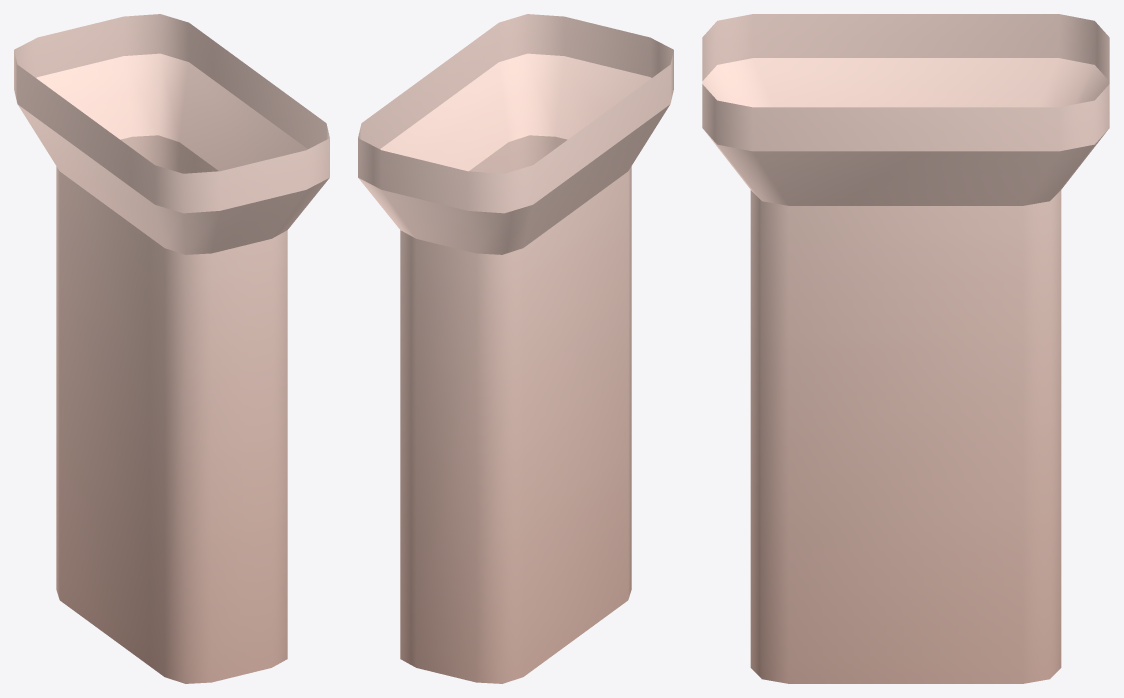
Rendered from railway_column_001.glb.
3 views of the same model, side by side, from view 1: azimuth 30°, elevation 25°; view 2: azimuth 150°, elevation 25°; view 3: azimuth 270°, elevation 25° (orthographic). The views are drawn at different scales.
Parts seen in each view (by area): view 1: railway_column_001; view 2: railway_column_001; view 3: railway_column_001.
Boxes of the visible parts, x1,y1,x2,y2 form: railway_column_001: [14, 14, 329, 683]; railway_column_001: [358, 14, 673, 683]; railway_column_001: [702, 14, 1109, 683].
Size of the model in its own units: 2.69 by 7.95 by 4.96.
1 material, 1 textured.
